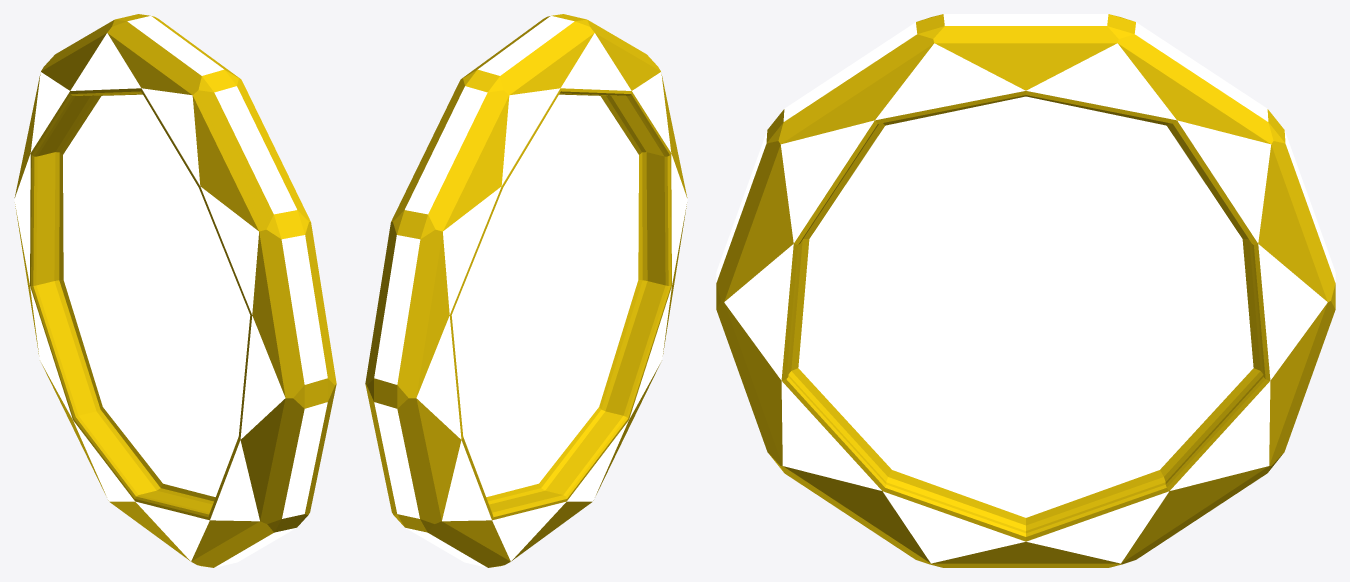
Rendered from Power coin.gltf.
3 renders of one model, left to right at view 1: azimuth 30°, elevation 25°; view 2: azimuth 150°, elevation 25°; view 3: azimuth 270°, elevation 25°, orthographic. The views are drawn at different scales.
Visible parts, largest first — view 1: Power coin; view 2: Power coin; view 3: Power coin.
Part boxes in pixels (x1,y1,x2,y2): Power coin: [14, 14, 336, 567]; Power coin: [365, 14, 687, 567]; Power coin: [716, 14, 1335, 567].
Bounding box in the file's own units: 0.2439 × 1.42 × 1.47.
